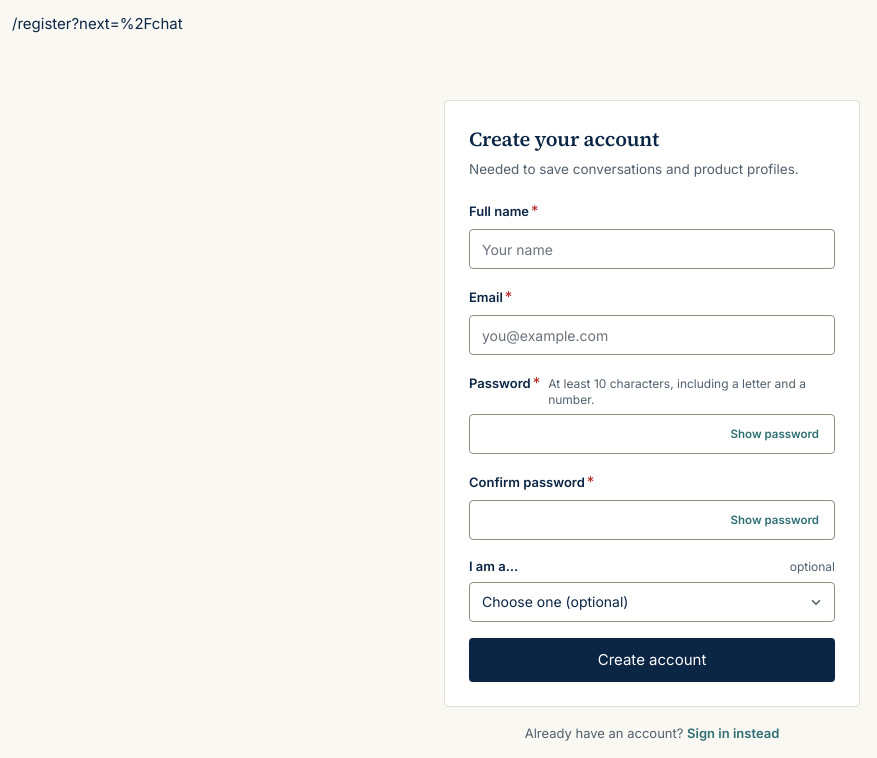
Test: Register › registers, then continues to the requested page
This screenshot has width=877, height=758.
In the field labelled "Full name": [652, 249] box [469,229,835,269], type "Asha Rao"
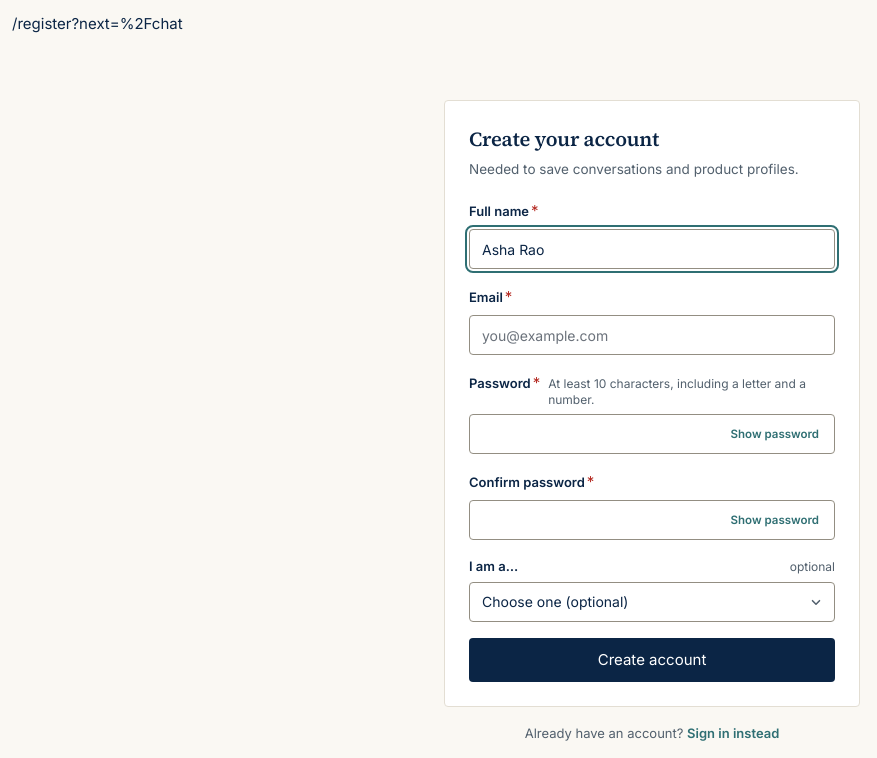
In the field labelled "Email": [652, 335] box [469,315,835,355], type "new@example.org"
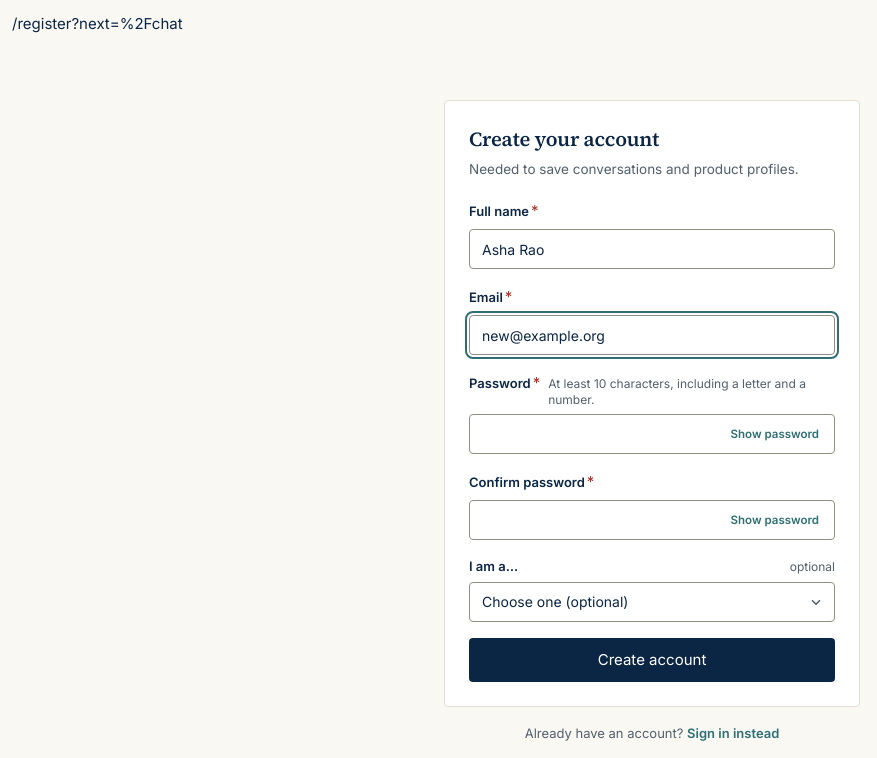
In the password field labelled "Password": [652, 434] box [469,414,835,454], type "Correct-Horse-9"
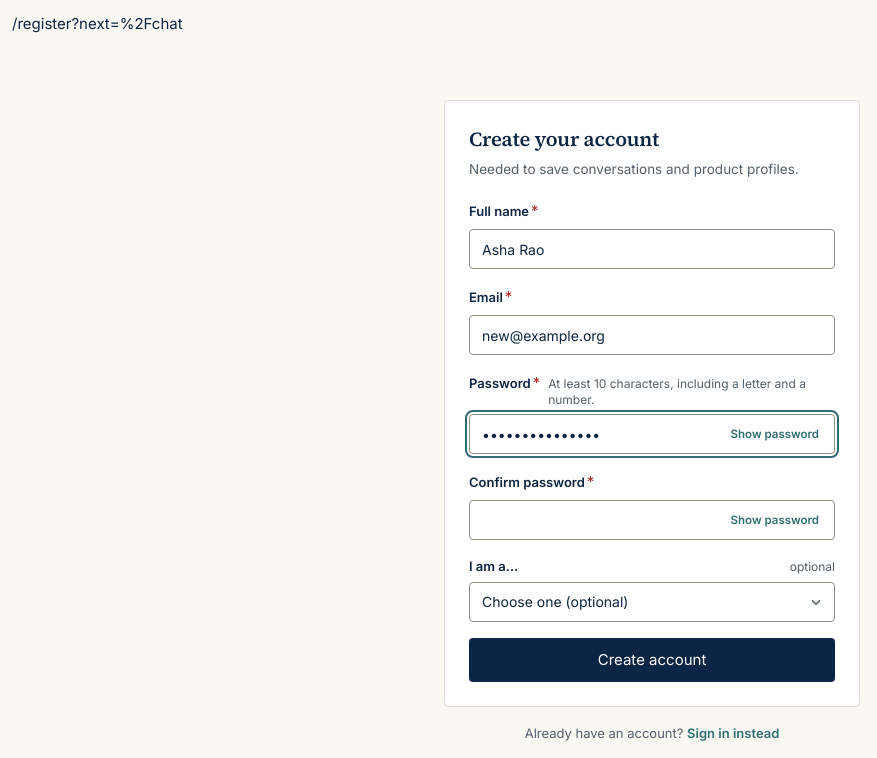
In the password field labelled "Confirm password": [652, 520] box [469,500,835,540], type "Correct-Horse-9"
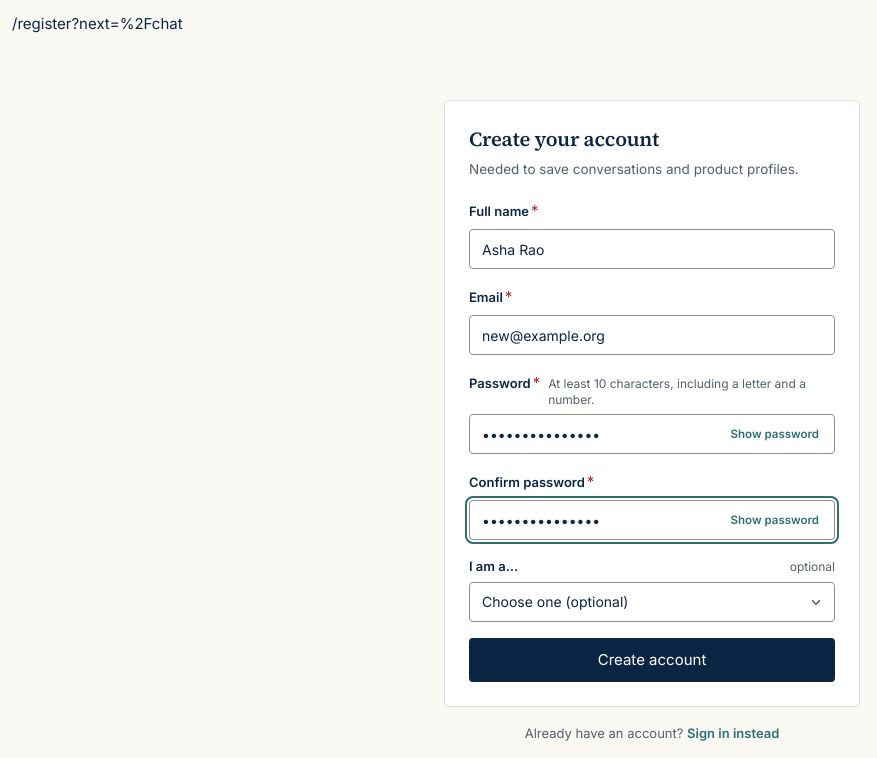
Select "MSME / manufacturer" in the dropdown labelled "I am a…": [652, 602] box [469,582,835,622]
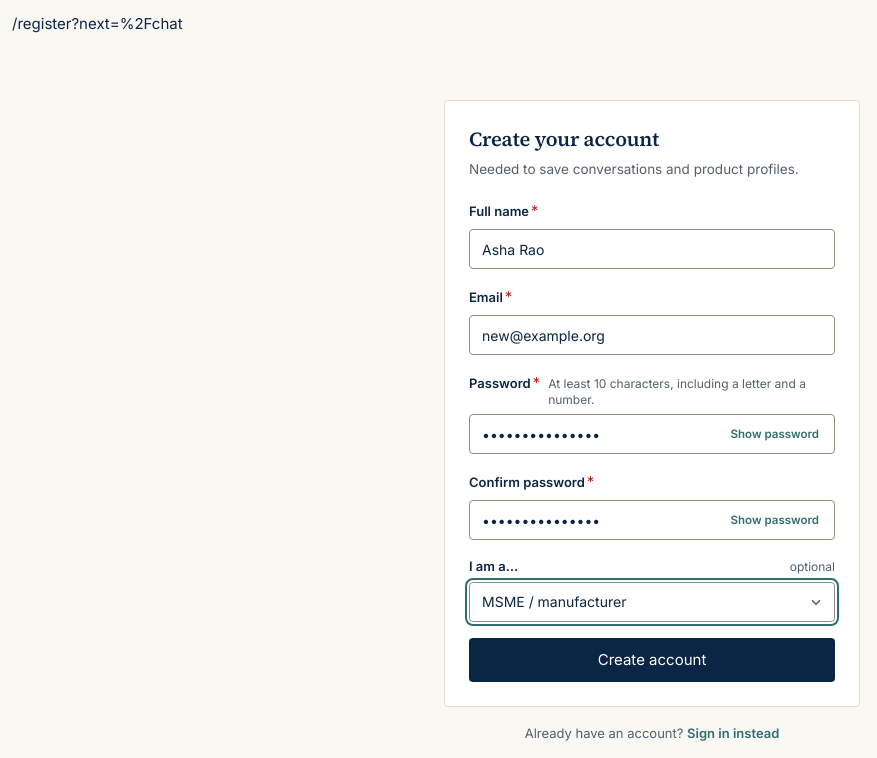
Click the button "Create account": [652, 660] box [469,638,835,682]
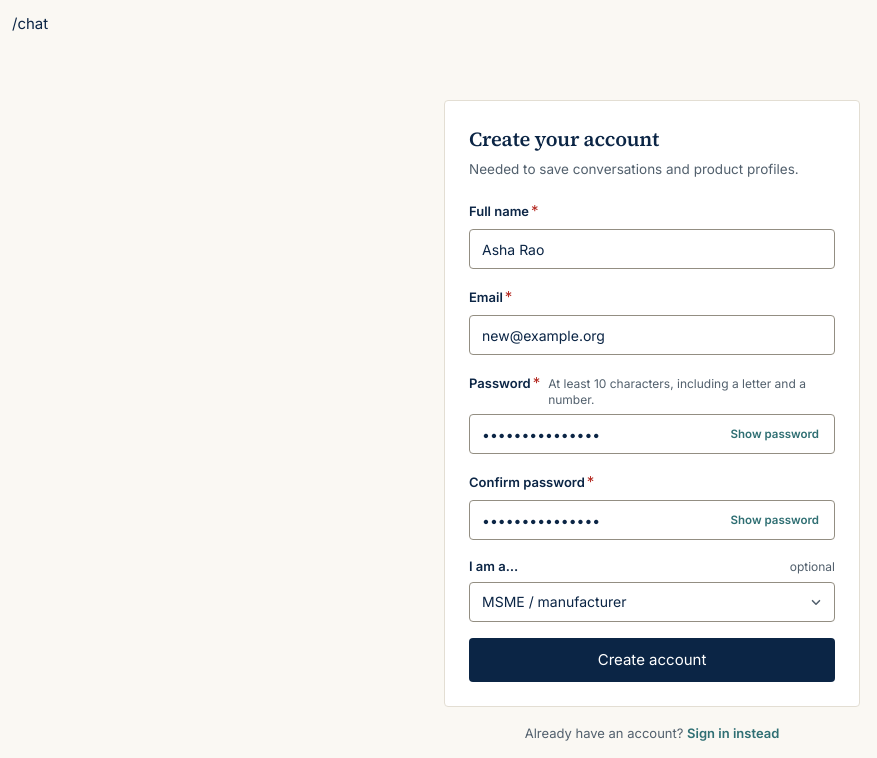
Result: the text with test id "location" reads "/chat" at [12,14,48,33]
